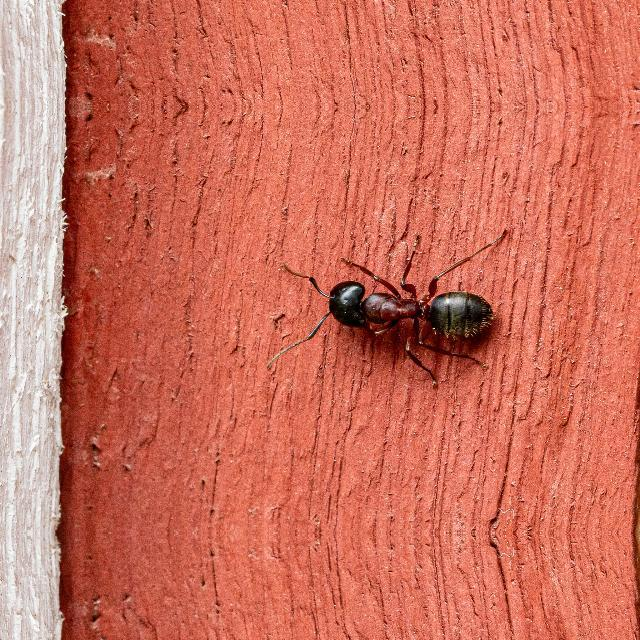Camponotus: (296, 250, 518, 360)
